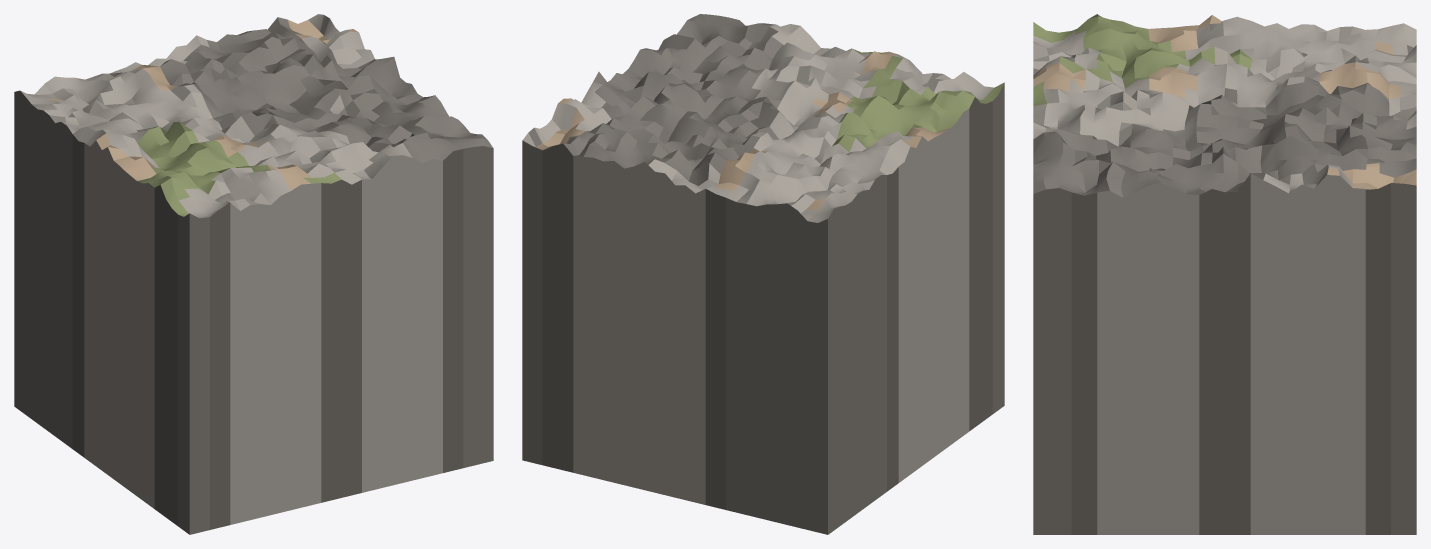
The model's file is kit-rock-low.glb.
The picture shows the model from 3 angles, left to right: view 1: azimuth 30°, elevation 25°; view 2: azimuth 150°, elevation 25°; view 3: azimuth 270°, elevation 25°; orthographic projection. The views are drawn at different scales.
Visible parts, largest first — view 1: rock.001; view 2: rock.001; view 3: rock.001.
Part boxes in pixels (x1=…): rock.001: x1=14, y1=14, x2=493, y2=534; rock.001: x1=522, y1=14, x2=1004, y2=534; rock.001: x1=1033, y1=14, x2=1416, y2=534.
Size of the model in its own units: 1 by 1.05 by 1.
